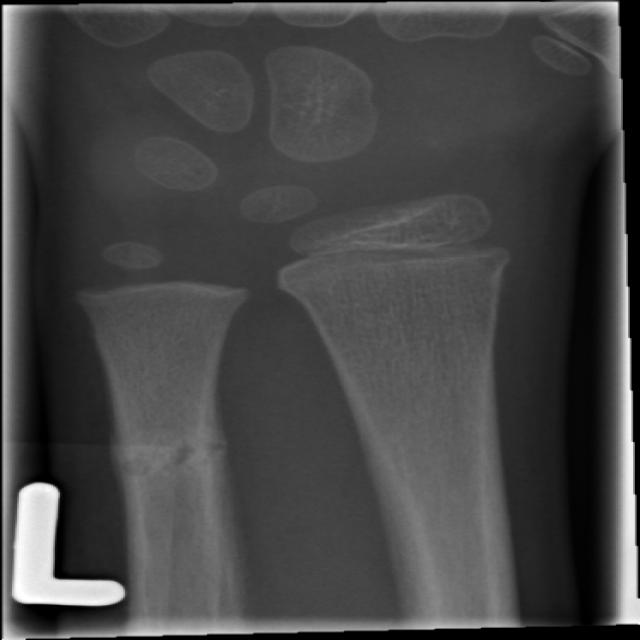ulna fracture: (100, 392, 252, 551)
